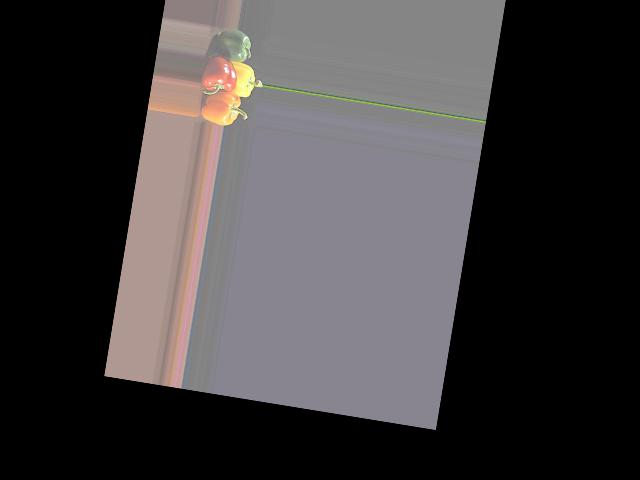bell_pepper: (193, 86, 246, 128)
